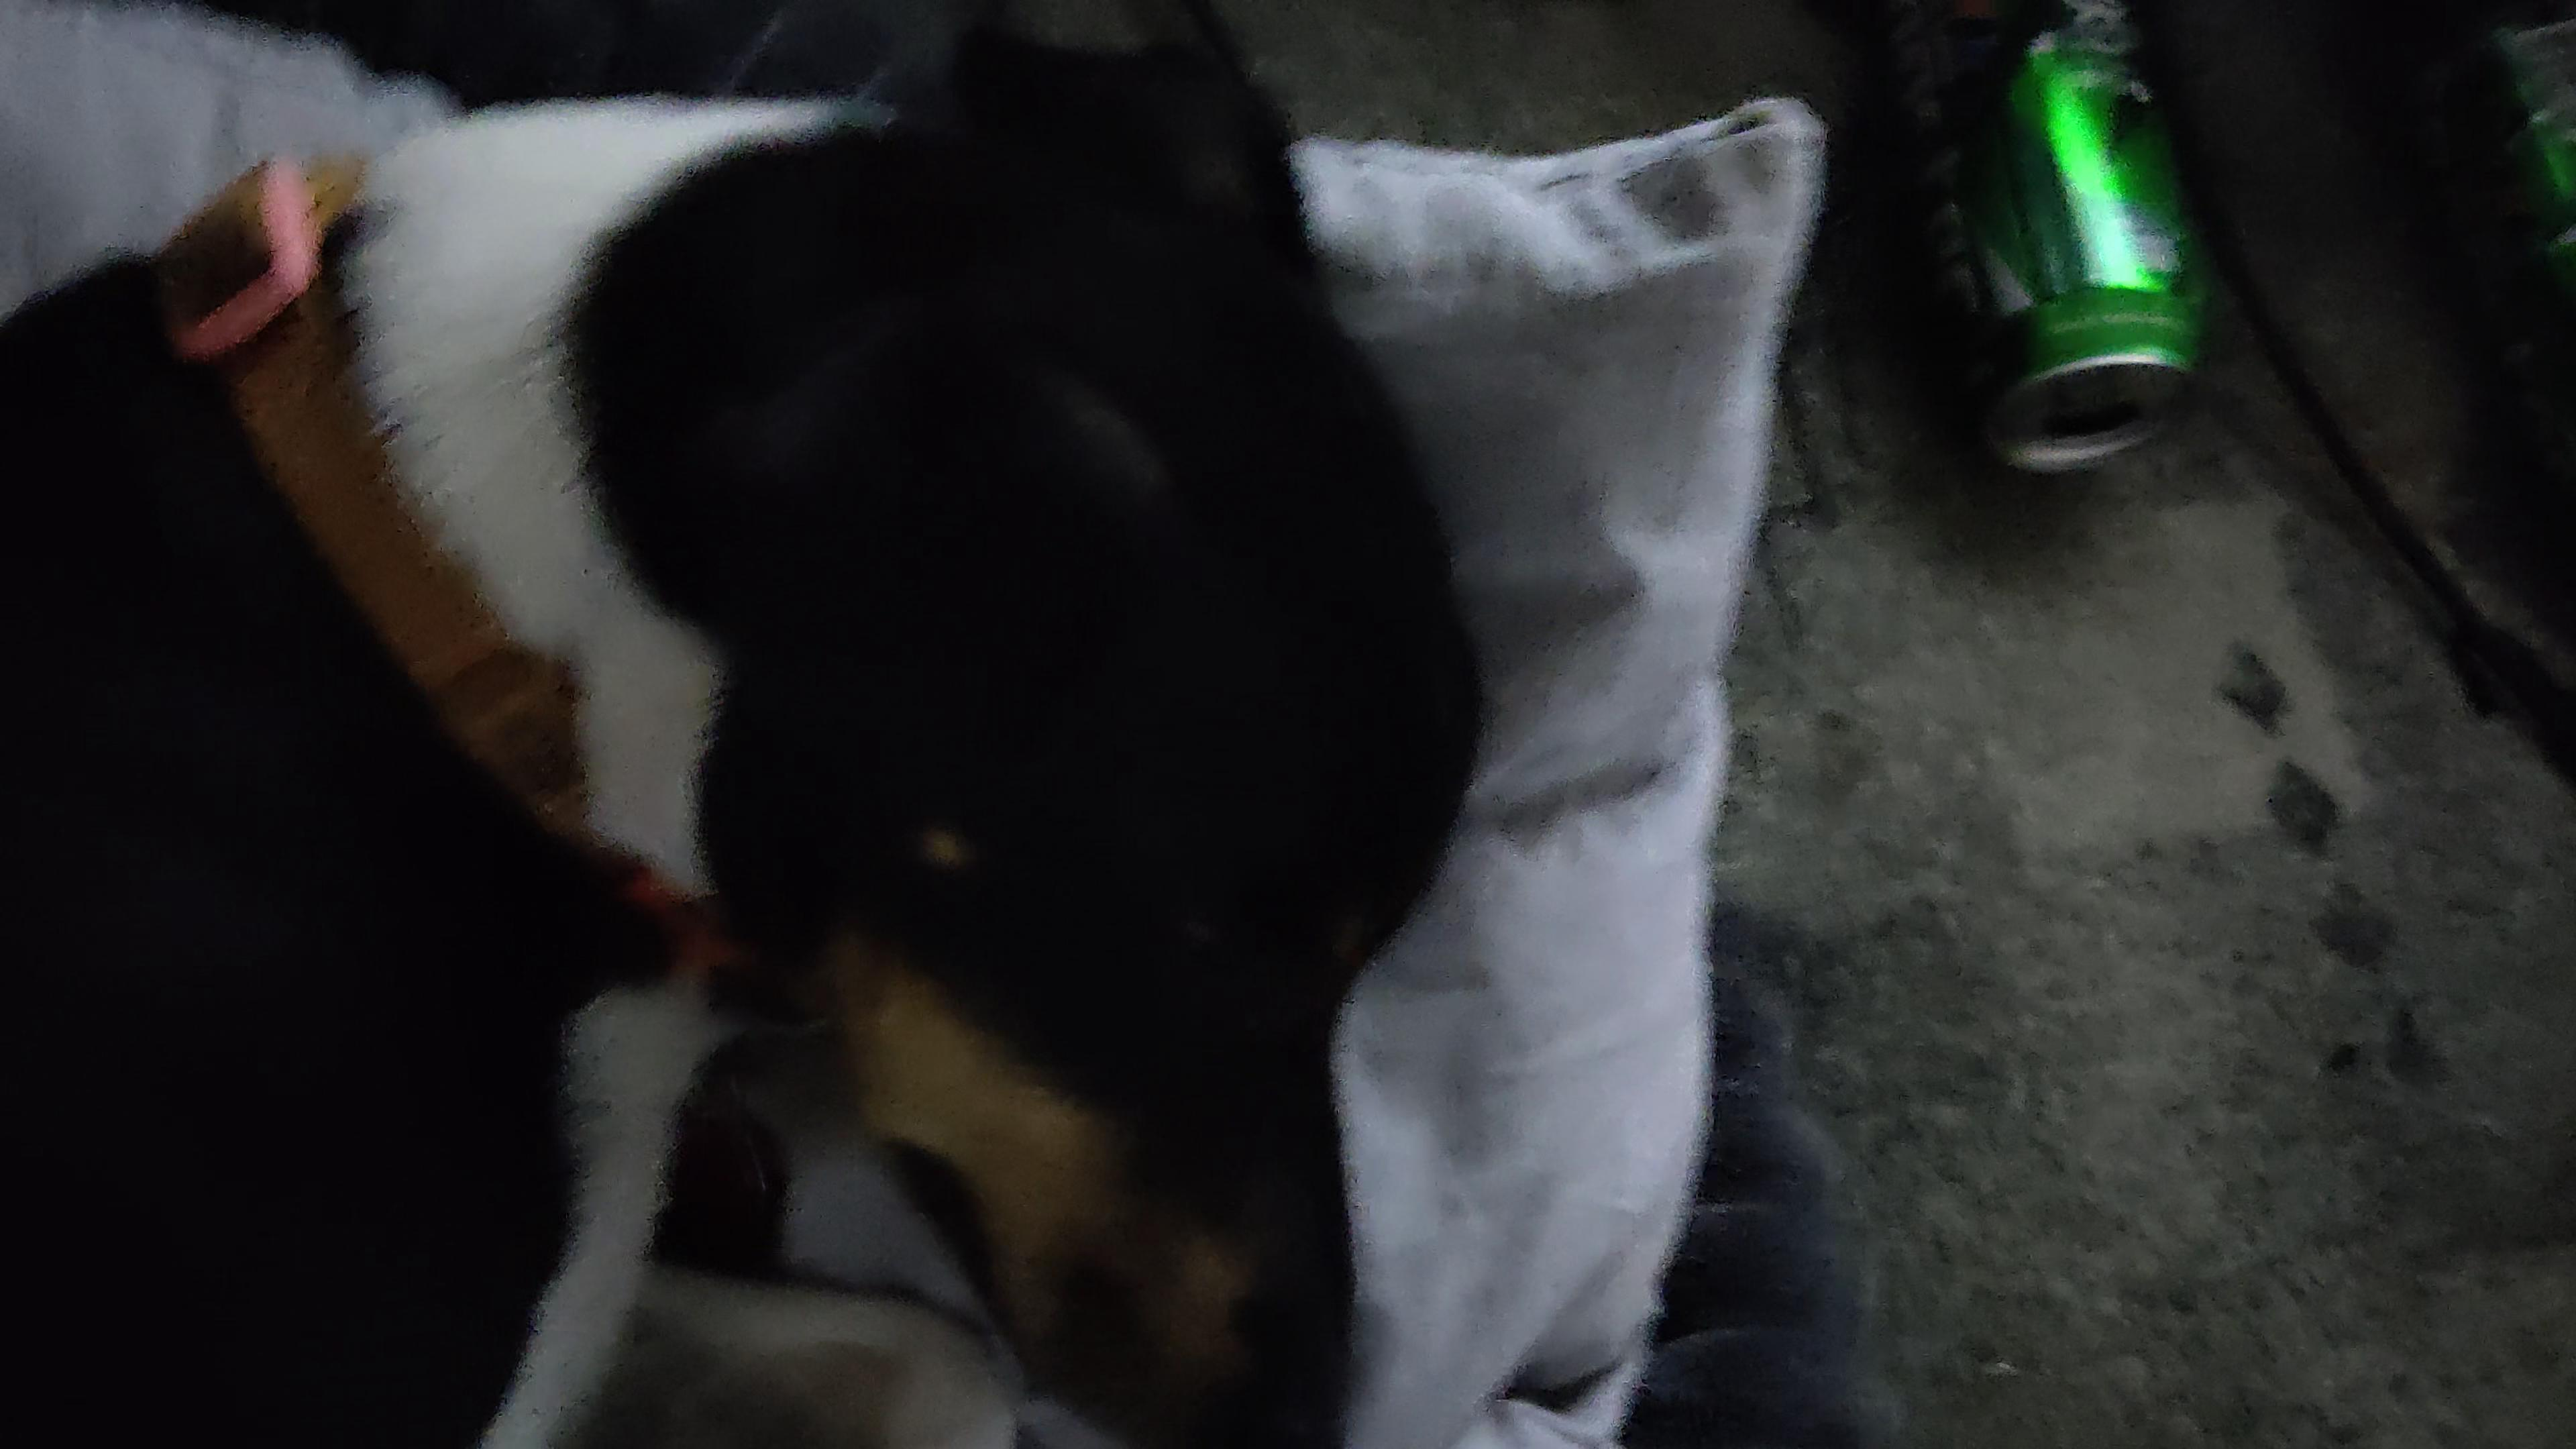Dog: (0, 0, 1532, 1449)
